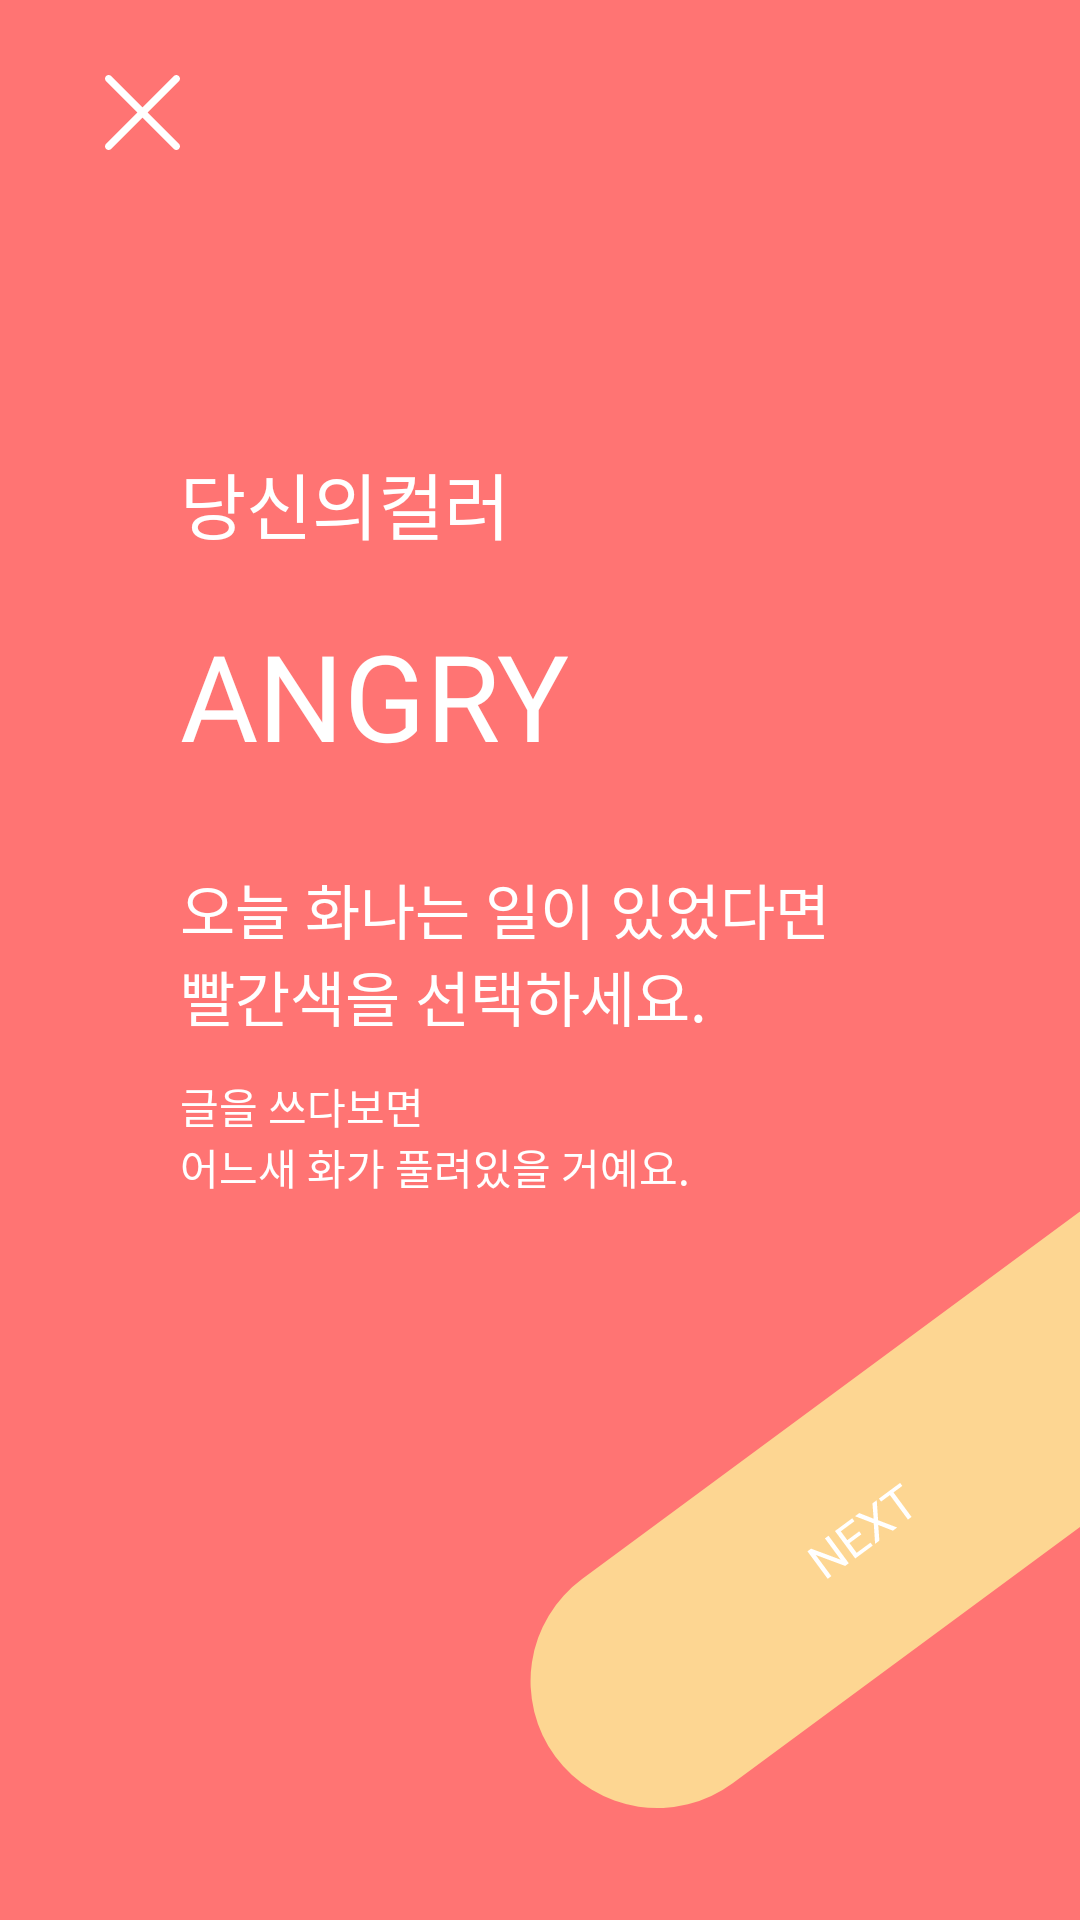

Icon click points for this 1080 x 1920 phone screenshot, format point (x, y):
close: point (142, 112)
